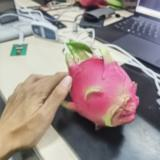pitaya: (63, 42, 137, 126)
